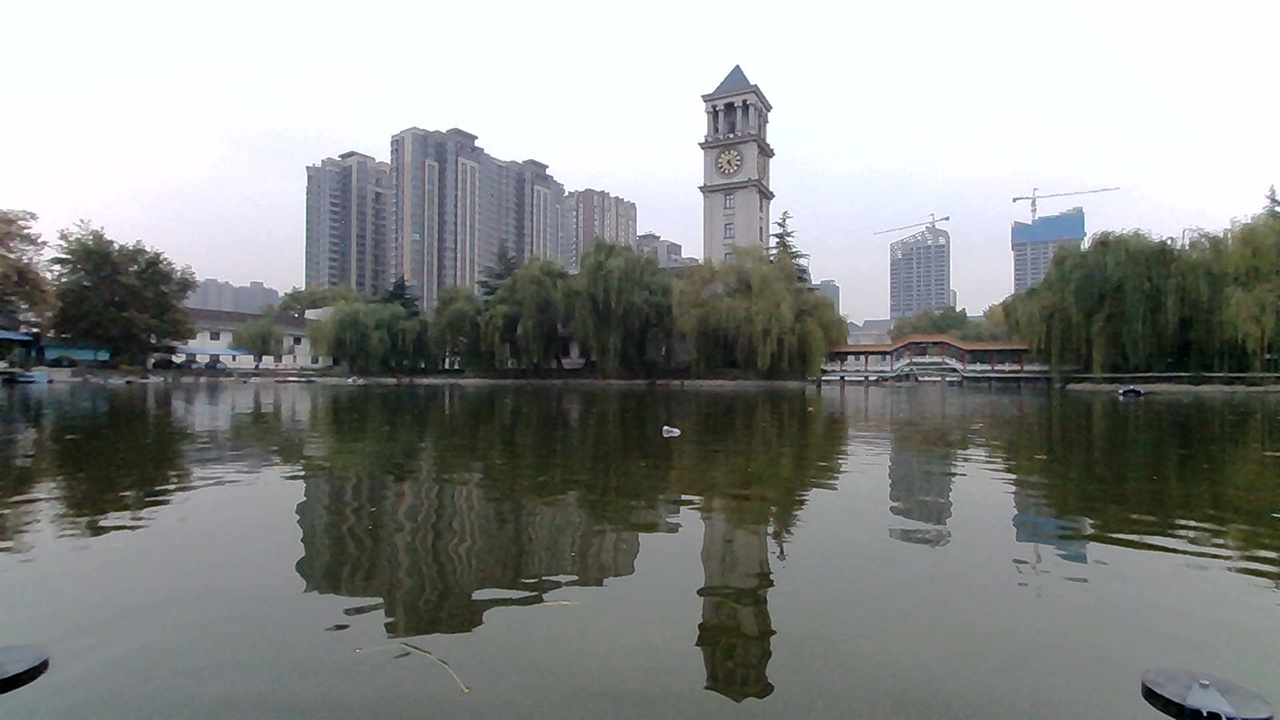bottle: (656, 417, 708, 455)
